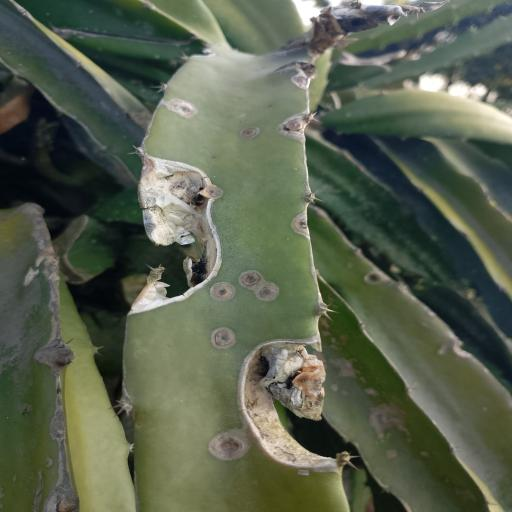stemcanker: (287, 465, 327, 487), (226, 122, 261, 146), (36, 452, 61, 472), (134, 417, 152, 434), (134, 422, 145, 430), (283, 236, 291, 242), (294, 168, 300, 172), (212, 175, 218, 178)
